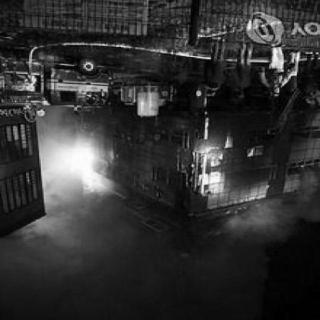Fire: (46, 136, 107, 208)
